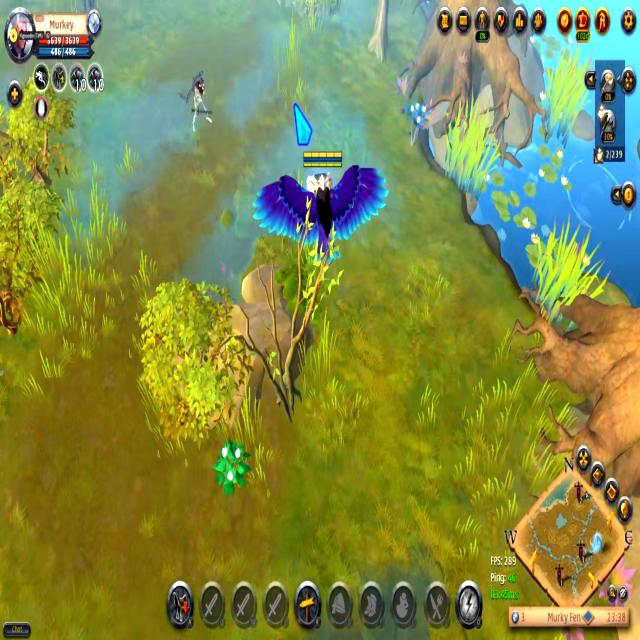hide: (209, 431, 254, 503), (405, 94, 431, 156)
ore: (186, 68, 215, 143)
red: (250, 149, 392, 274)
